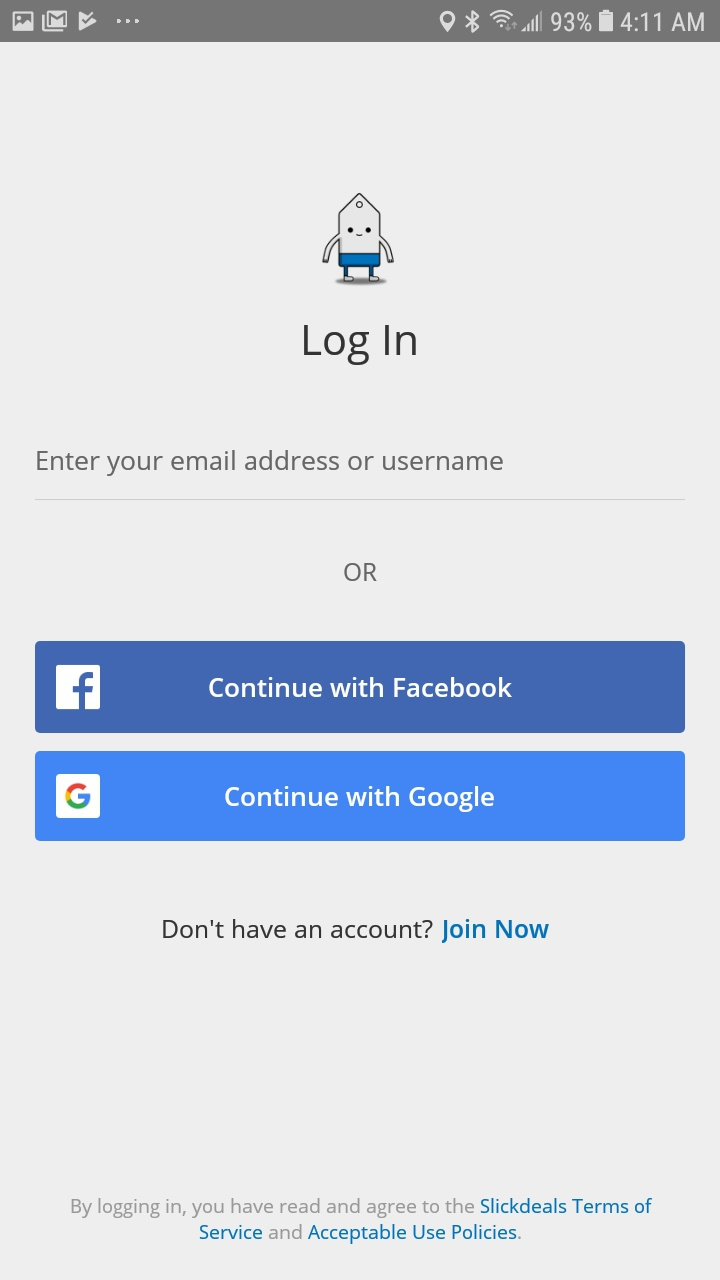EditText: (36, 449, 686, 502)
Image: (322, 193, 395, 286)
Text: (71, 1197, 653, 1245), (38, 450, 504, 478), (163, 918, 434, 939), (304, 325, 417, 367), (441, 918, 550, 944), (344, 562, 379, 582)
TextButton: (35, 641, 686, 734), (36, 751, 686, 842)
UpperTaskBar: (1, 1, 720, 43)
